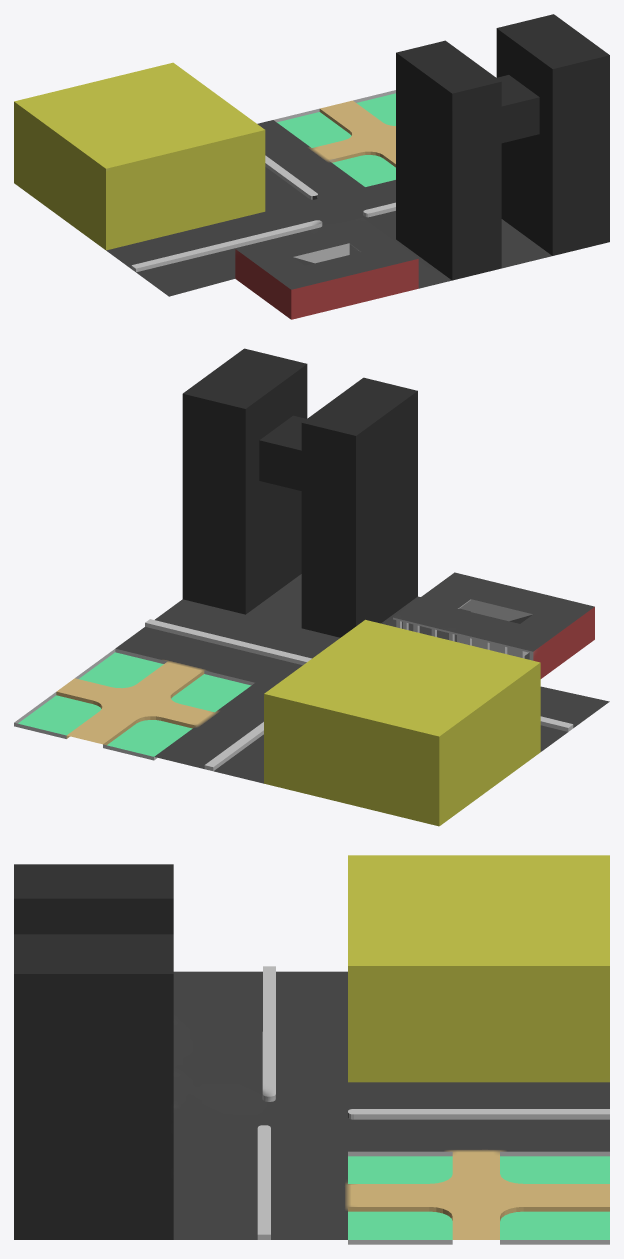
Rendered from C.C.Level1.fbx.
3 views of the same model, one above another, from view 1: azimuth 30°, elevation 25°; view 2: azimuth 150°, elevation 25°; view 3: azimuth 270°, elevation 25° (orthographic). The views are drawn at different scales.
Parts seen in each view (by area): view 1: Prorotype; view 2: Prorotype; view 3: Prorotype.
Boxes of the visible parts, bbox=[...] form: Prorotype: bbox=[14, 14, 609, 319]; Prorotype: bbox=[14, 348, 609, 826]; Prorotype: bbox=[14, 855, 609, 1244].
Size of the model in its own units: 12133 by 5704 by 11380.
Materials: 1 (1 with a texture image).
